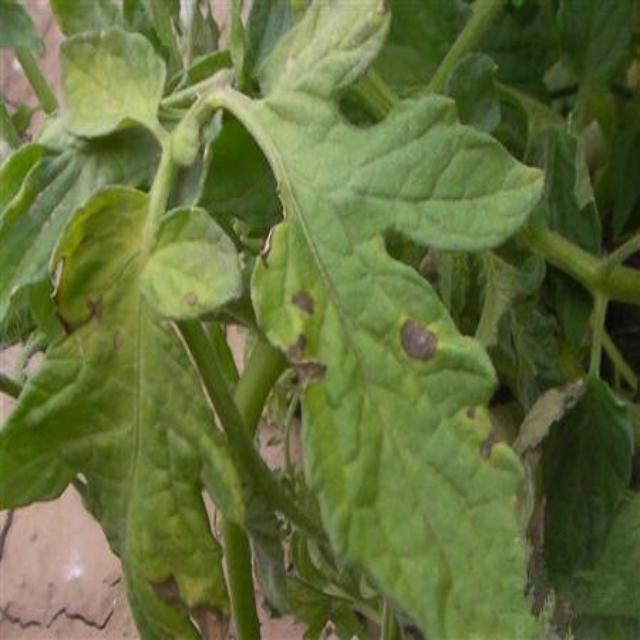Early_blight: (503, 379, 574, 640), (285, 333, 329, 396), (396, 313, 440, 362), (187, 601, 236, 640), (141, 568, 181, 609), (287, 289, 319, 320), (476, 426, 503, 460)
